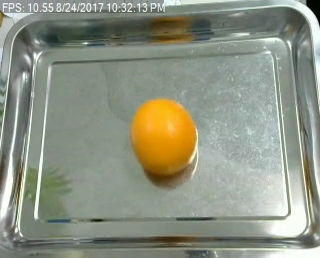Orange: (129, 99, 198, 176)
